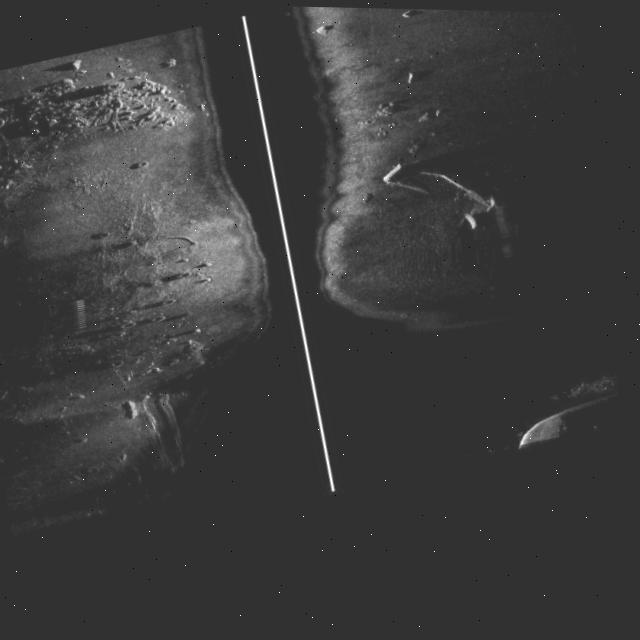mine: (376, 145, 449, 182)
